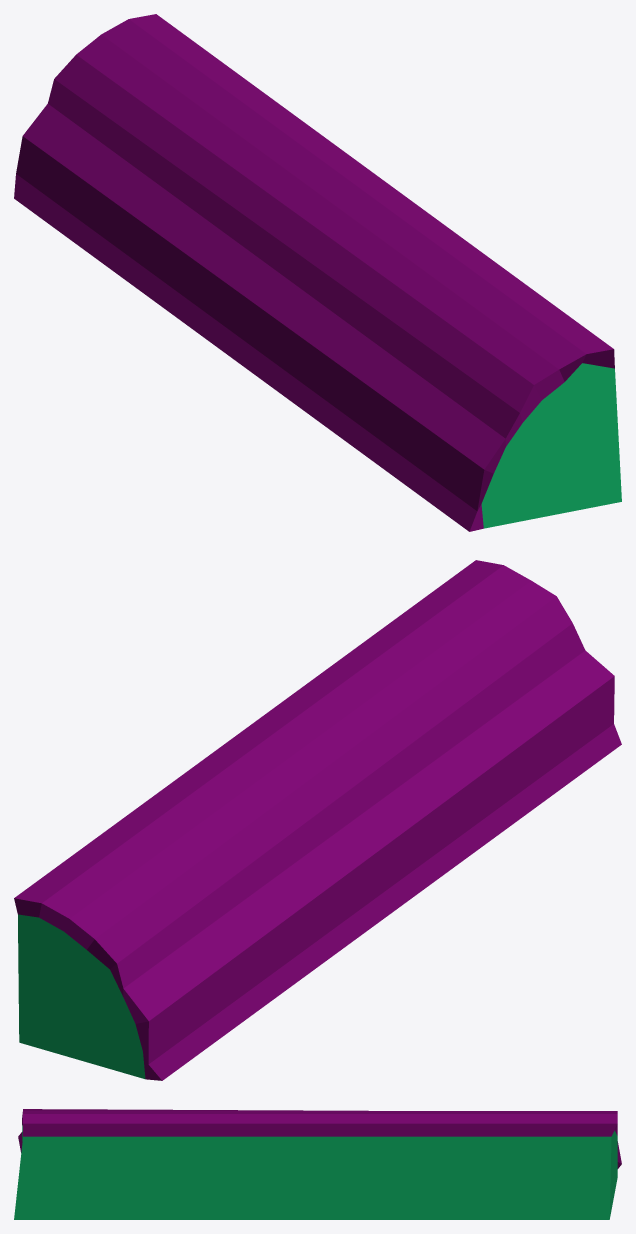
The model's file is wood.fbx.
The picture shows the model from 3 angles, top to bottom: view 1: azimuth 30°, elevation 25°; view 2: azimuth 150°, elevation 25°; view 3: azimuth 270°, elevation 25°; orthographic projection. The views are drawn at different scales.
Visible parts, largest first — view 1: Cylinder; view 2: Cylinder; view 3: Cylinder.
Boxes of the visible parts, box(x1,y1,x2,y2) form: Cylinder: box(14, 14, 621, 531); Cylinder: box(14, 560, 621, 1080); Cylinder: box(14, 1109, 621, 1219).
Size of the model in its own units: 25.12 by 24.65 by 140.
